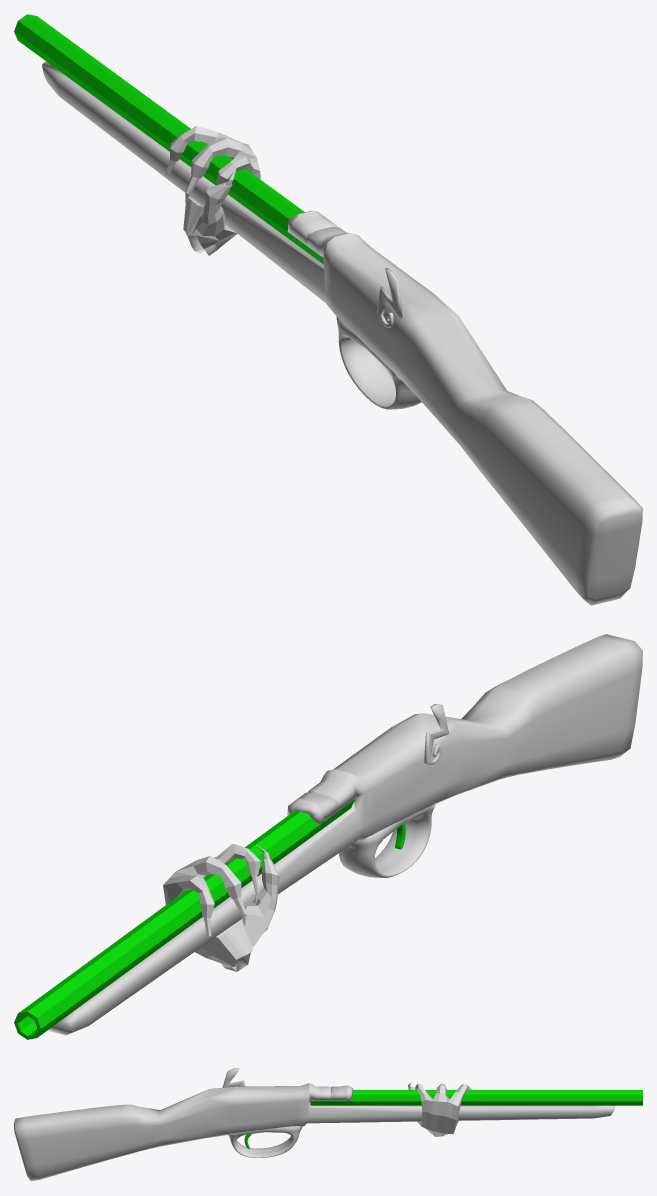
File: rifle.fbx
3 renders of one model, top to bottom at view 1: azimuth 30°, elevation 25°; view 2: azimuth 150°, elevation 25°; view 3: azimuth 270°, elevation 25°, orthographic. The views are drawn at different scales.
Parts seen in each view (by area): view 1: rifle; view 2: rifle; view 3: rifle.
Boxes of the visible parts, bbox=[...] form: rifle: bbox=[14, 14, 642, 605]; rifle: bbox=[14, 634, 642, 1039]; rifle: bbox=[14, 1068, 642, 1181].
Size of the model in its own units: 56.62 by 140 by 772.
